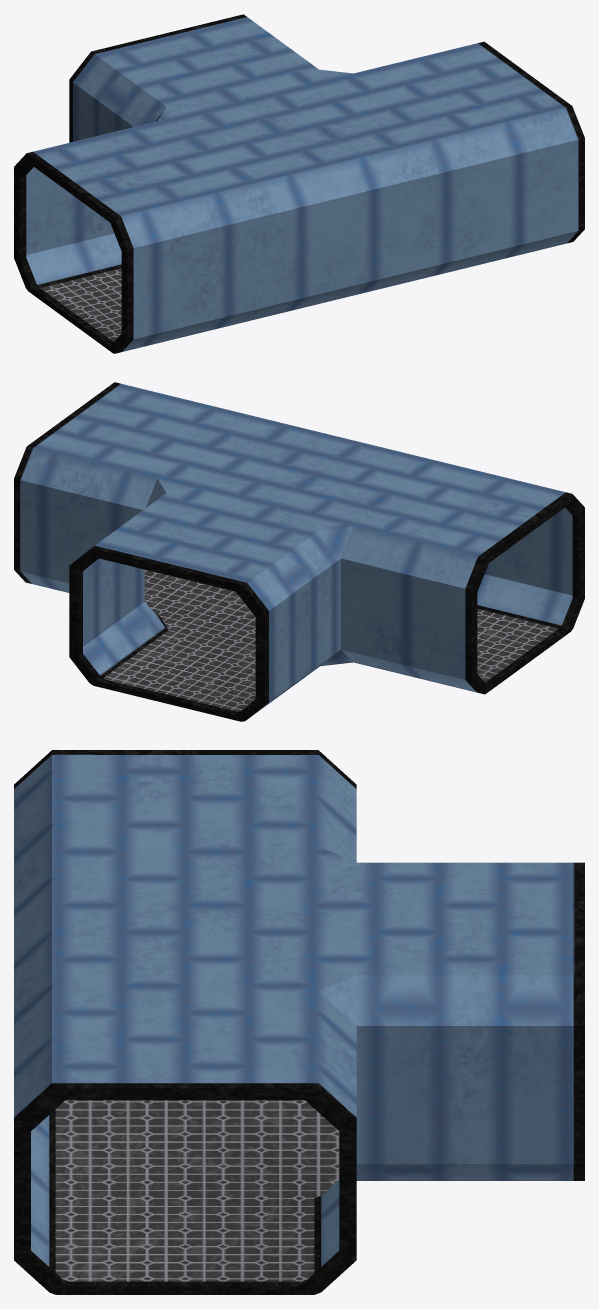
The model's file is Hall - Junction - Texture.gltf.
The picture shows the model from 3 angles, top to bottom: view 1: azimuth 30°, elevation 25°; view 2: azimuth 150°, elevation 25°; view 3: azimuth 270°, elevation 25°; orthographic projection. The views are drawn at different scales.
Visible parts, largest first — view 1: Junction; view 2: Junction; view 3: Junction.
Part boxes in pixels (x1=…): Junction: x1=14, y1=14, x2=584, y2=353; Junction: x1=14, y1=382, x2=584, y2=721; Junction: x1=14, y1=750, x2=584, y2=1294.
Size of the model in its own units: 7 by 2 by 5.
1 material, 1 textured.
